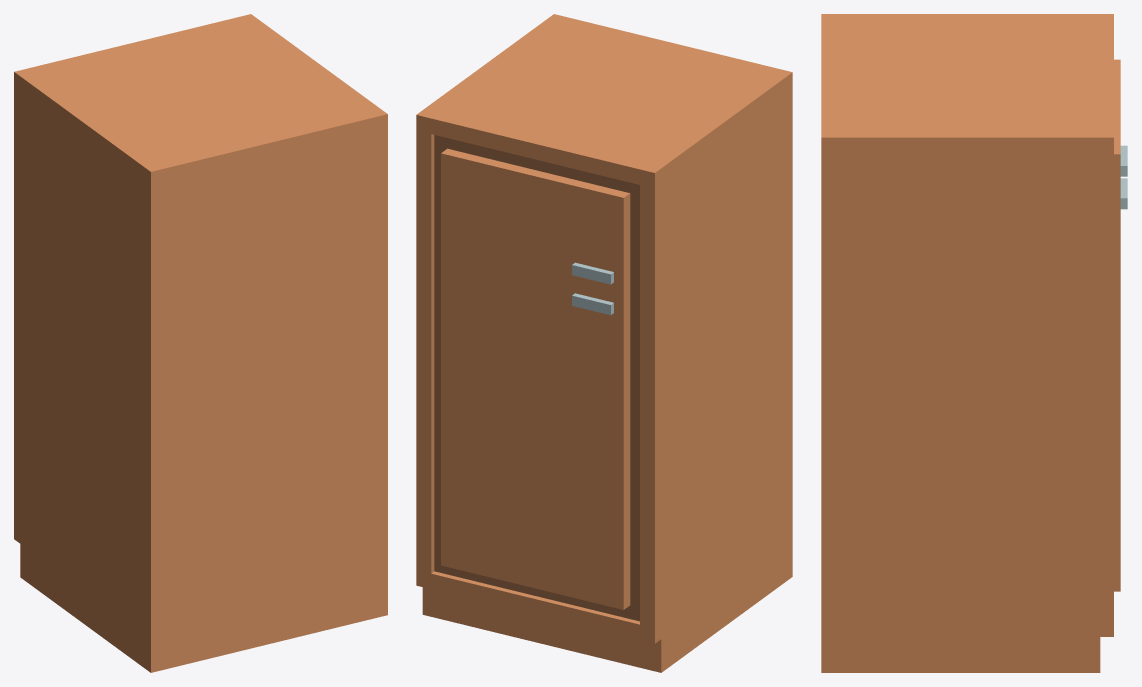
File: kitchenFridgeBuiltIn.obj
The picture shows the model from 3 angles, left to right: view 1: azimuth 30°, elevation 25°; view 2: azimuth 150°, elevation 25°; view 3: azimuth 270°, elevation 25°; orthographic projection. The views are drawn at different scales.
Parts seen in each view (by area): view 1: kitchenFridgeBuiltIn; view 2: kitchenFridgeBuiltIn, doorFridge, doorFreezer; view 3: kitchenFridgeBuiltIn, doorFridge, doorFreezer.
Part boxes in pixels (box(x1,y1,x2,y2)): kitchenFridgeBuiltIn: box(14, 14, 387, 672); kitchenFridgeBuiltIn: box(416, 14, 792, 672); doorFridge: box(441, 250, 630, 609); doorFreezer: box(441, 148, 630, 294); kitchenFridgeBuiltIn: box(821, 14, 1113, 672); doorFridge: box(1114, 178, 1127, 591); doorFreezer: box(1114, 59, 1127, 256).
Size of the model in its own units: 0.43 by 0.8687 by 0.45.
